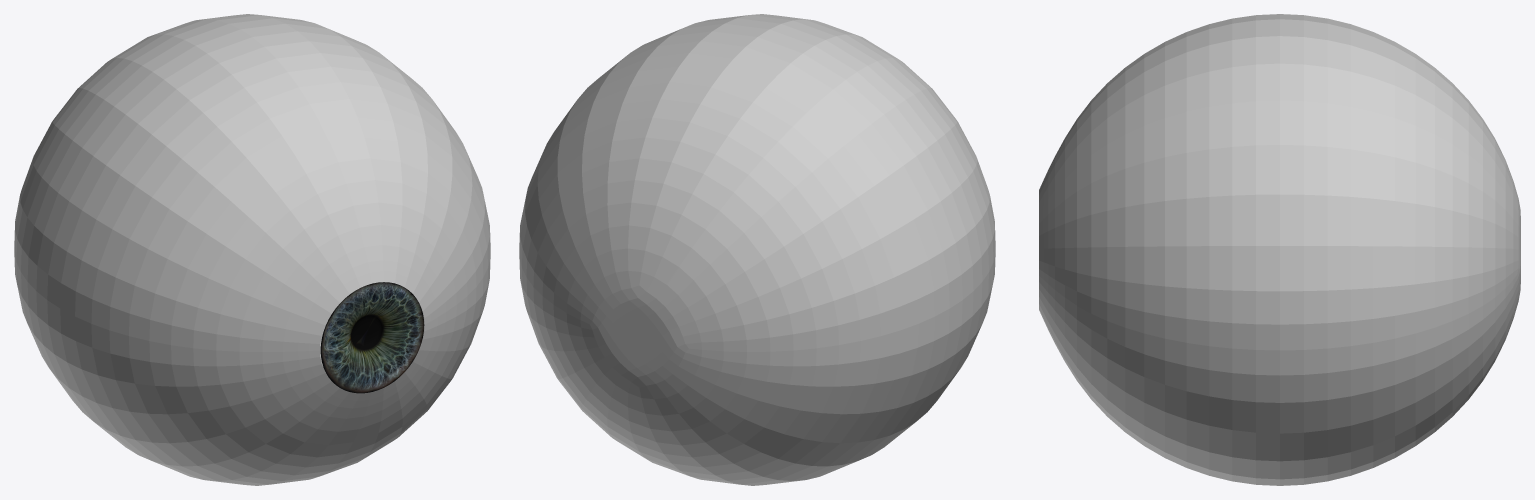
File: eye.fbx
3 views of the same model, side by side, from view 1: azimuth 30°, elevation 25°; view 2: azimuth 150°, elevation 25°; view 3: azimuth 270°, elevation 25° (orthographic).
Visible parts, largest first — view 1: Sphere, Sphere.001; view 2: Sphere; view 3: Sphere.
Boxes of the visible parts, left/top/right/bottom form: Sphere: left=14, top=14, right=490, bottom=485; Sphere.001: left=320, top=282, right=424, bottom=393; Sphere: left=519, top=14, right=995, bottom=485; Sphere: left=1039, top=14, right=1520, bottom=485.
Size of the model in its own units: 240 by 238 by 251.
